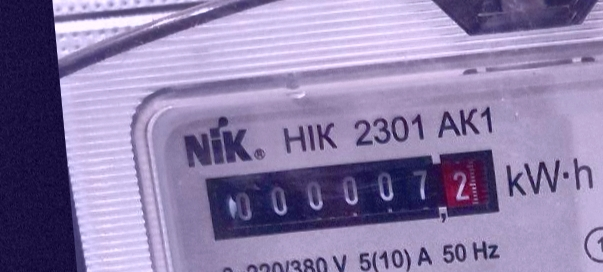0: (302, 174, 328, 214), (339, 171, 363, 210), (231, 186, 256, 223), (373, 166, 397, 204), (268, 181, 291, 217)
2: (449, 166, 474, 204)
7: (409, 164, 433, 203)
screen: (199, 140, 509, 247)
